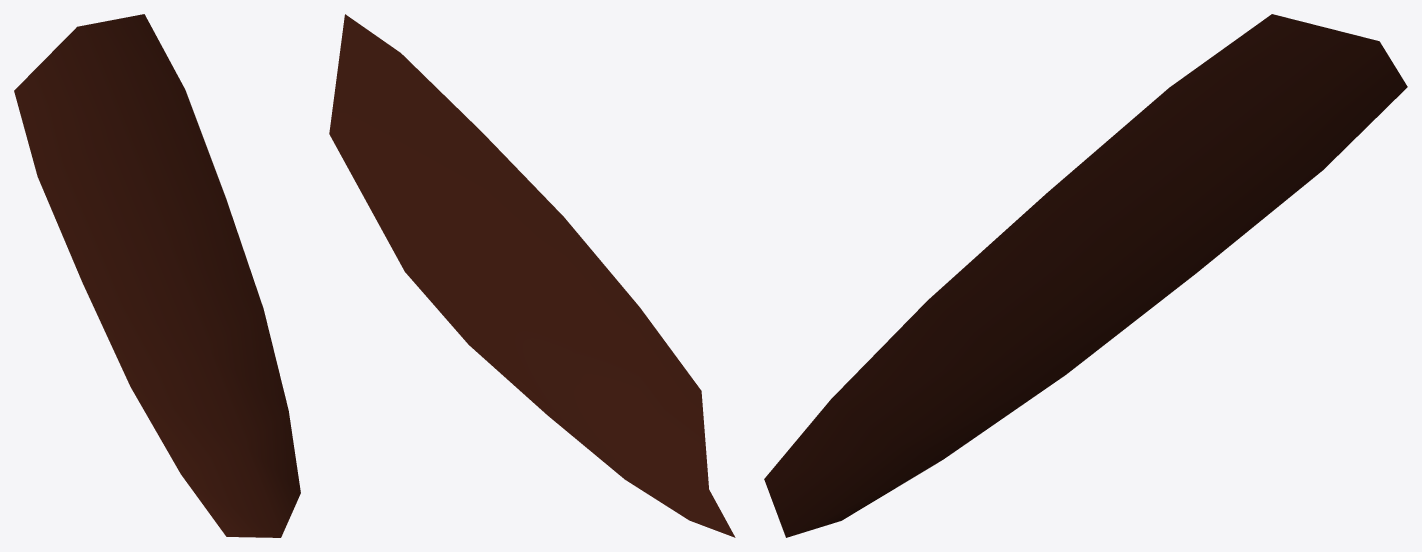
File: hen_feather_tail_secondary_002.obj
The picture shows the model from 3 angles, left to right: view 1: azimuth 30°, elevation 25°; view 2: azimuth 150°, elevation 25°; view 3: azimuth 270°, elevation 25°; orthographic projection. The views are drawn at different scales.
Parts seen in each view (by area): view 1: feather_tail_secondary_002; view 2: feather_tail_secondary_002; view 3: feather_tail_secondary_002.
Boxes of the visible parts, left/top/right/bottom form: feather_tail_secondary_002: left=14, top=14, right=300, bottom=537; feather_tail_secondary_002: left=329, top=14, right=735, bottom=537; feather_tail_secondary_002: left=764, top=14, right=1407, bottom=537.
Bounding box in the file's own units: 0.0122 × 0.049 × 0.0515.
